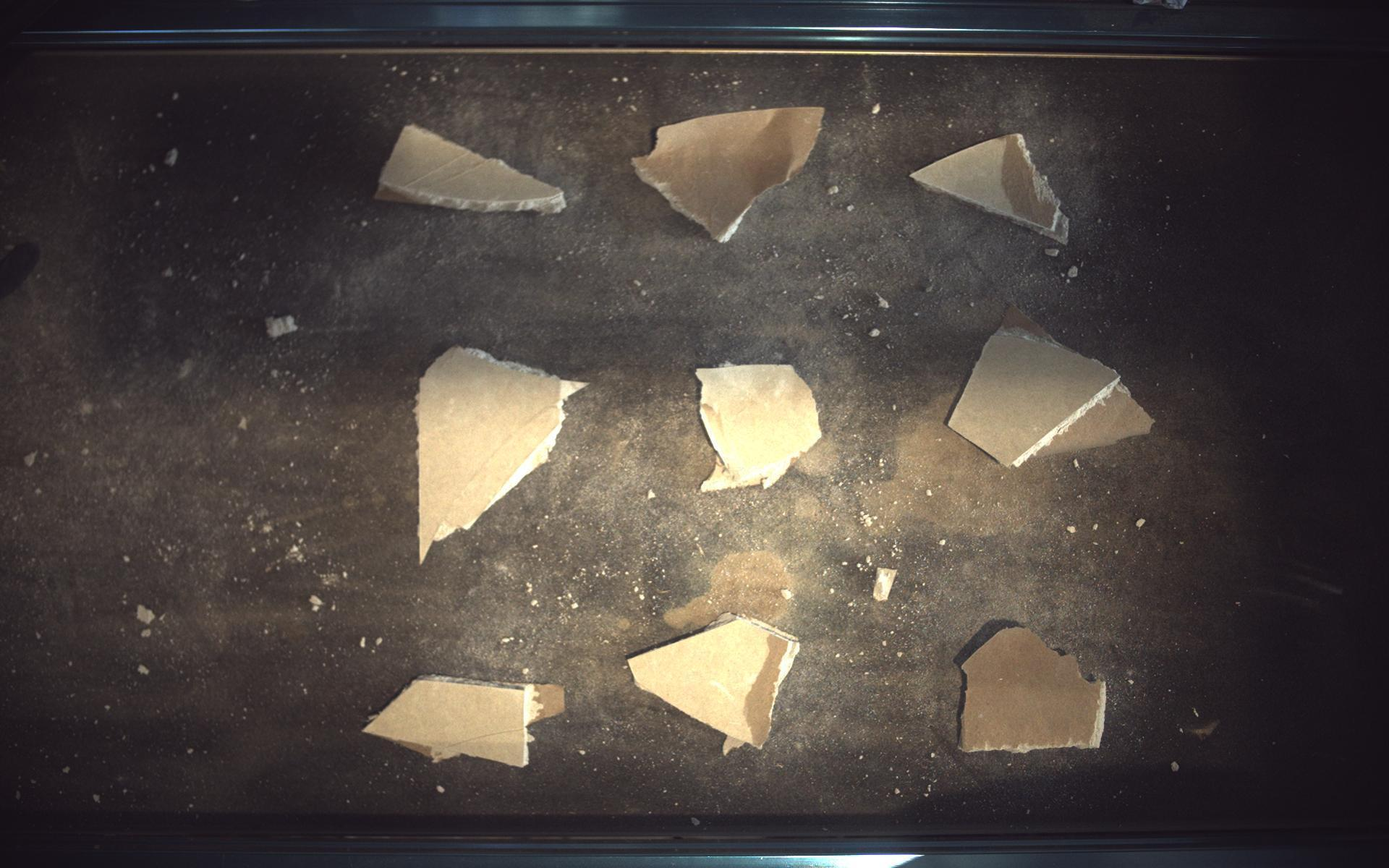gypsum_board: (415, 346, 585, 563), (951, 305, 1156, 467), (632, 106, 825, 242), (629, 614, 801, 755), (363, 676, 565, 768), (962, 629, 1109, 754), (912, 133, 1071, 244), (375, 124, 566, 213), (697, 364, 823, 492)
